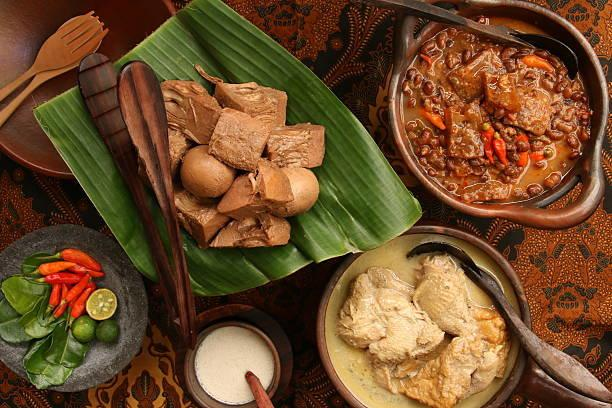gudeg: (168, 82, 325, 249)
